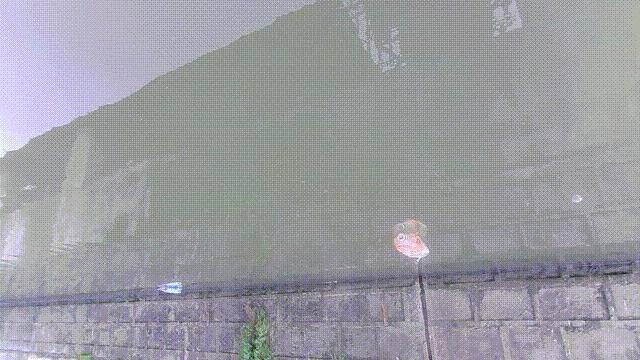Plastic: (391, 231, 431, 258), (155, 283, 186, 296)
